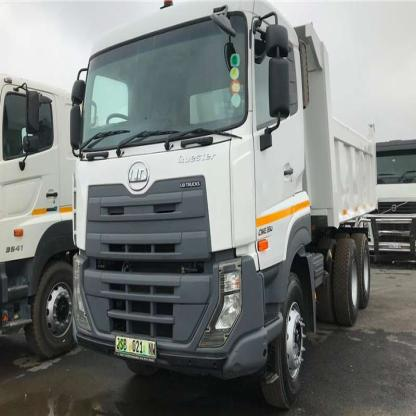dump_truck: (63, 8, 377, 413)
